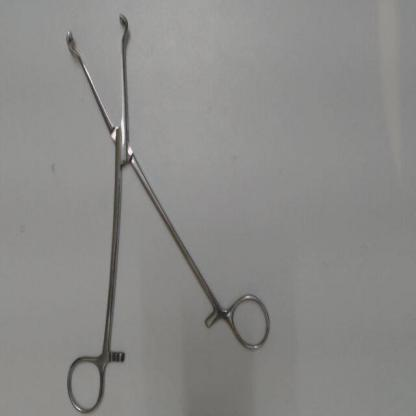8 Babcock Tissue Forceps: (58, 8, 276, 416)
